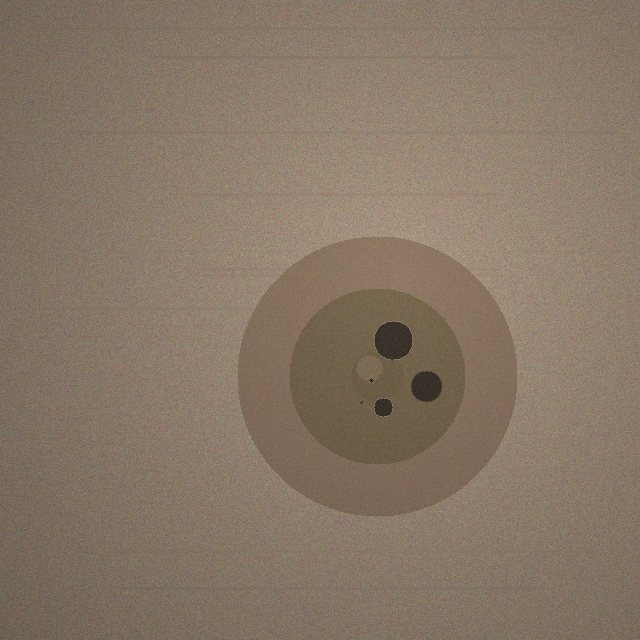shrinkage: (237, 236, 517, 516)
